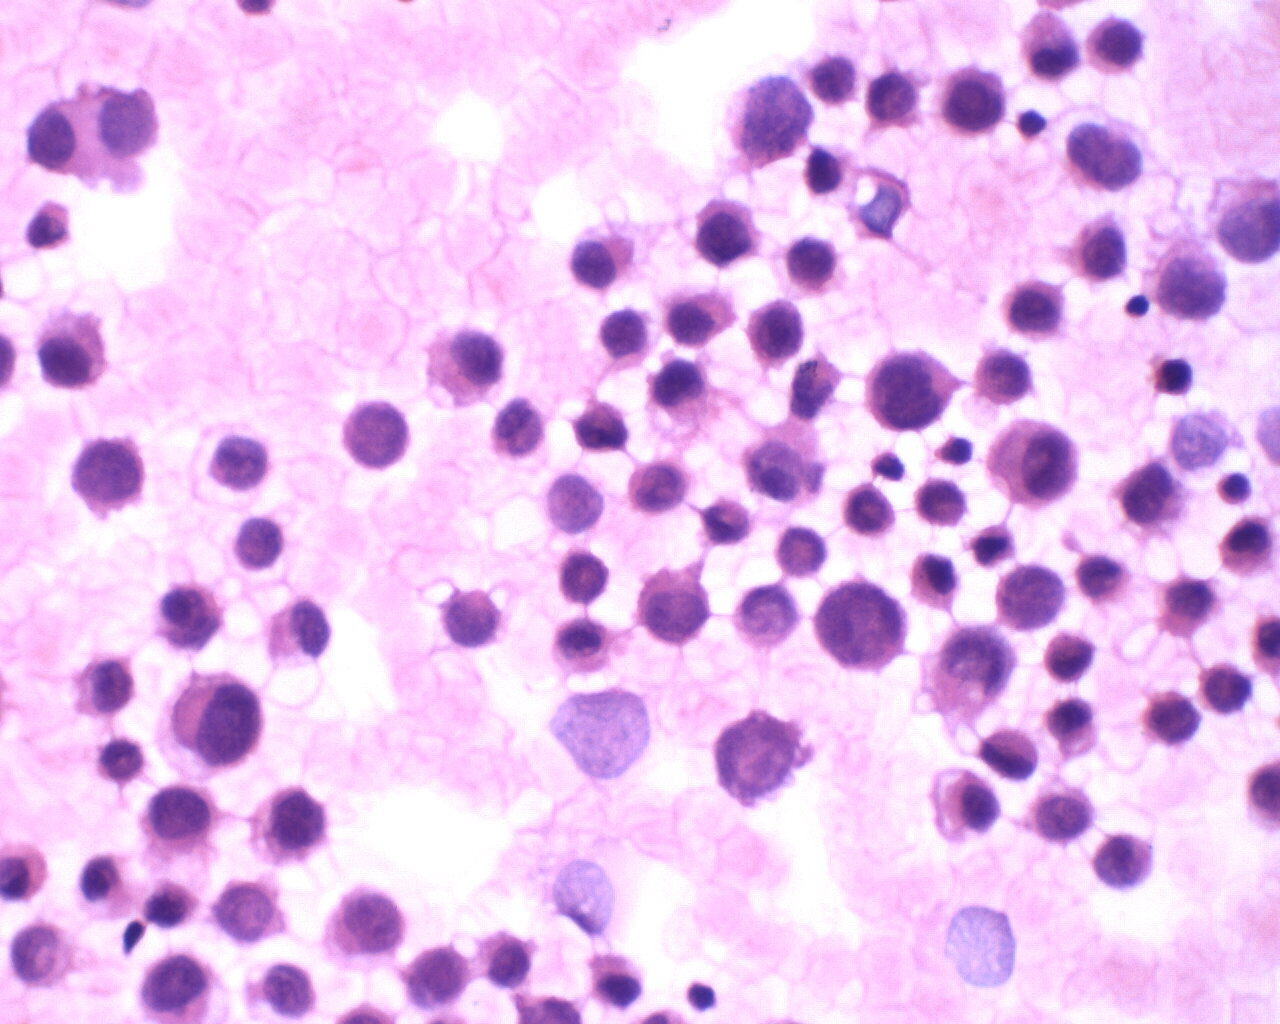ab: (166, 669, 263, 772), (816, 576, 913, 673), (241, 781, 330, 871), (867, 348, 956, 433), (69, 435, 153, 523), (1111, 456, 1190, 542), (634, 562, 714, 646), (138, 779, 219, 859), (686, 197, 765, 274), (331, 399, 411, 472), (941, 61, 1011, 138), (210, 875, 286, 944), (1020, 782, 1097, 850), (10, 918, 79, 992), (1003, 275, 1075, 343), (1086, 825, 1154, 893), (741, 297, 808, 363), (1072, 208, 1128, 285), (863, 66, 927, 133), (971, 345, 1035, 409), (1087, 14, 1150, 78), (783, 231, 842, 297), (840, 478, 898, 543), (1196, 660, 1255, 721)
meso: (984, 414, 1083, 512), (30, 303, 112, 387)
